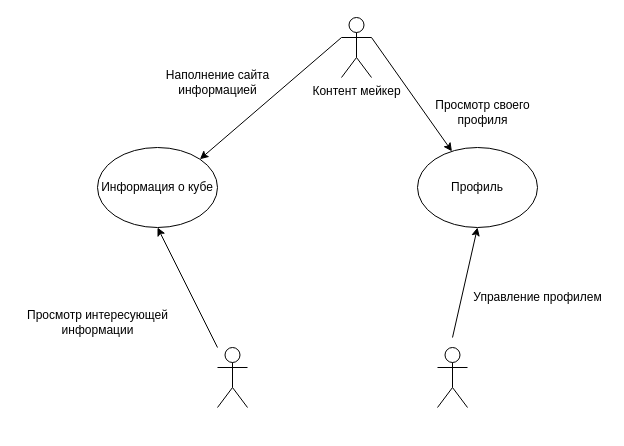
Image size: 624x446. Some labels were removed from this diagram. Here are the shapes that lost their labels. From the top down, the box of each, then its label:
(216, 346, 248, 408): Клиент
(436, 346, 468, 408): Администратор
